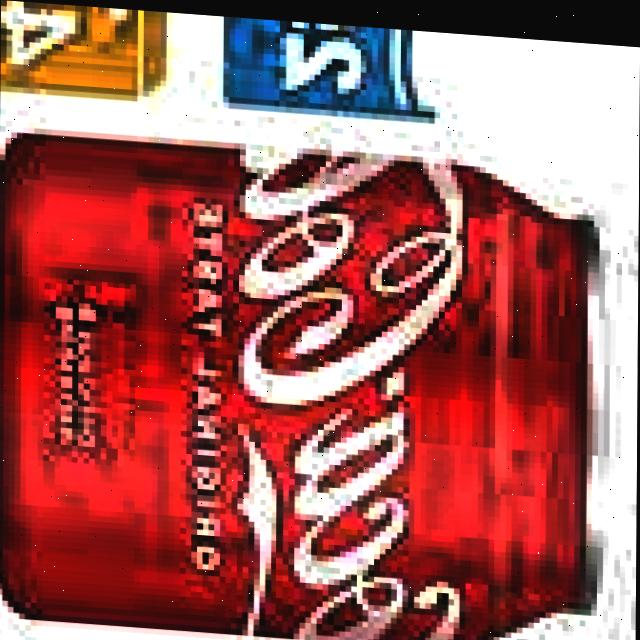metal: (0, 120, 634, 640)
